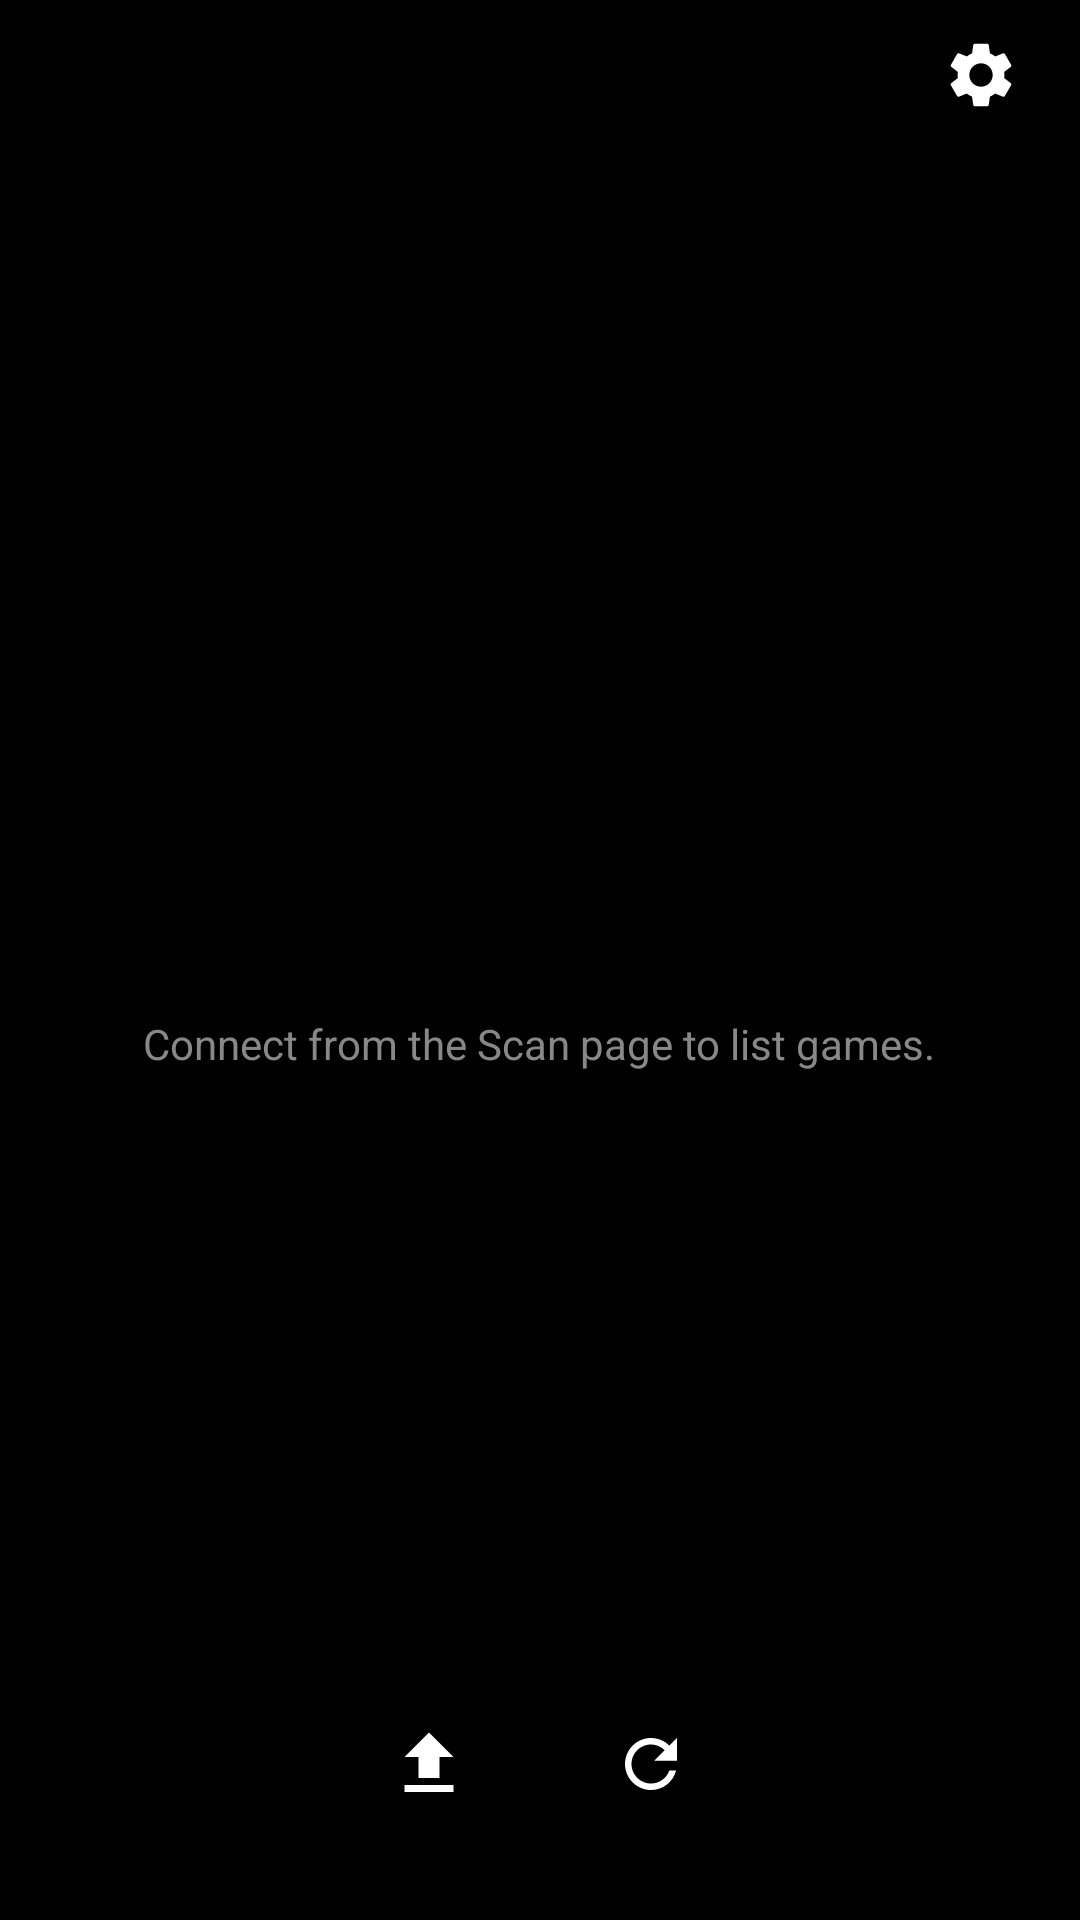

Icon bounding boxes for this 1080px x 1920px phone screenshot, format (x1,y1,x2,y2):
Refresh: (625,1738,677,1790)
Settings: (950,43,1012,107)
Upload game: (404,1732,454,1792)
